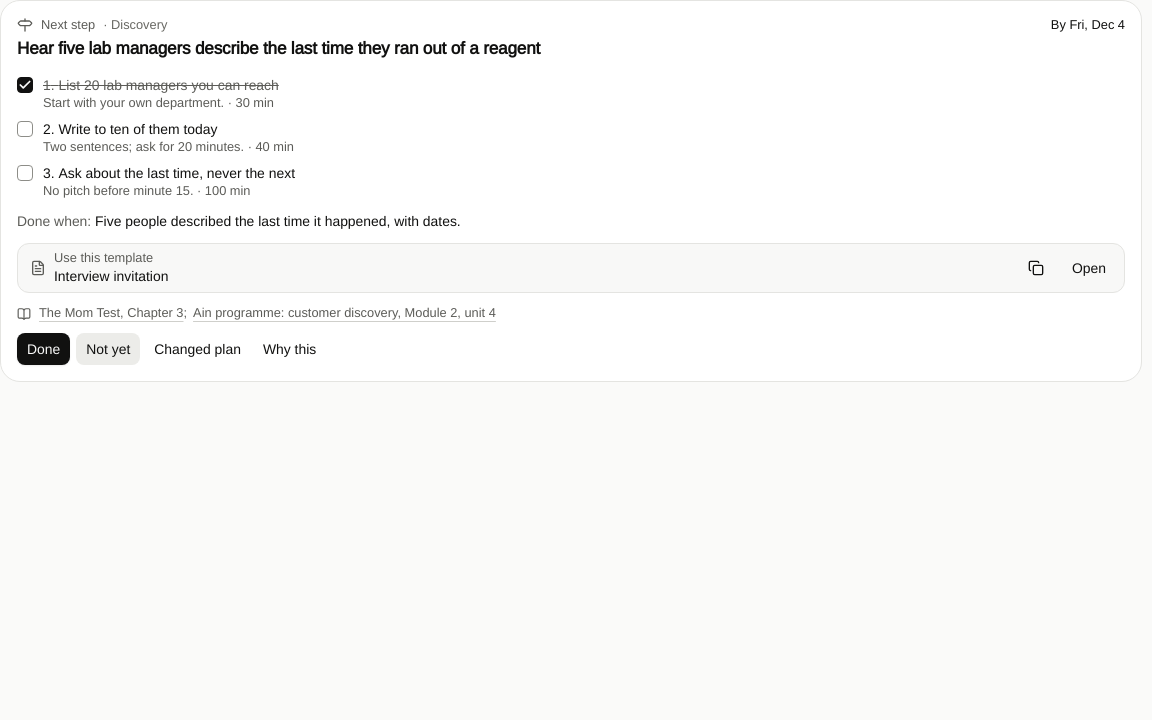
Test: StepCard › Why this says the stage, the evidence it produces and what follows
Click the button "Why this": (290, 349) [255, 333, 324, 365]
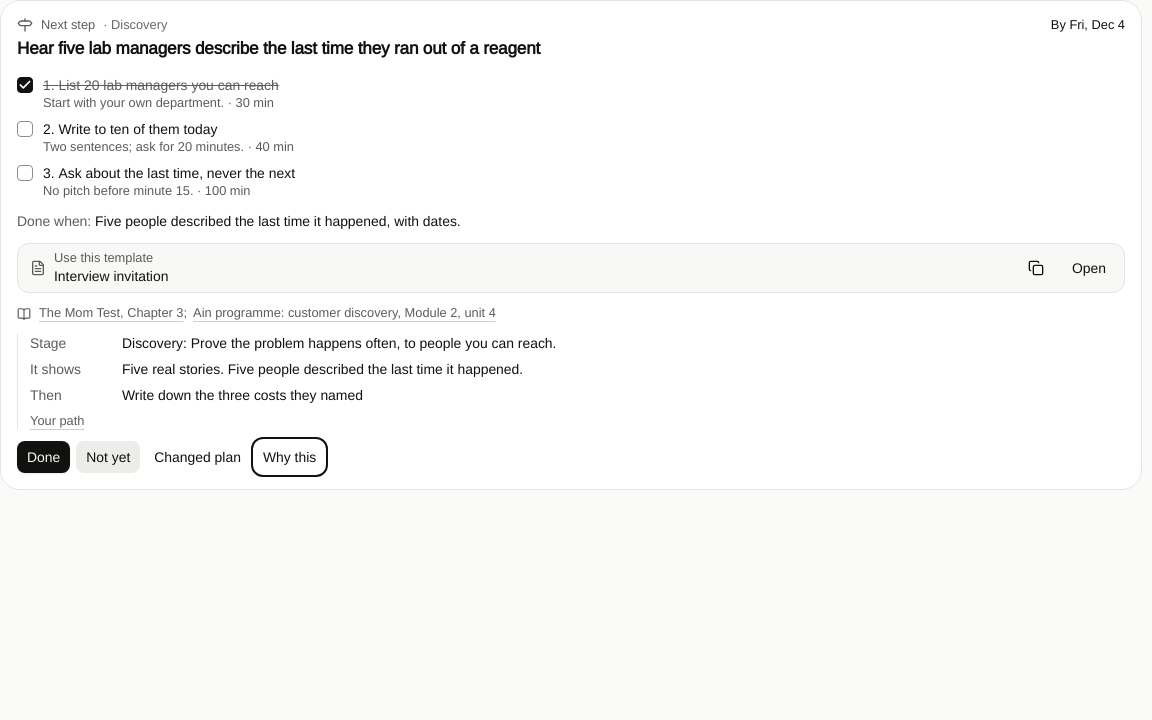
Now the button "Why this" is expanded, box [255, 441, 324, 473]
